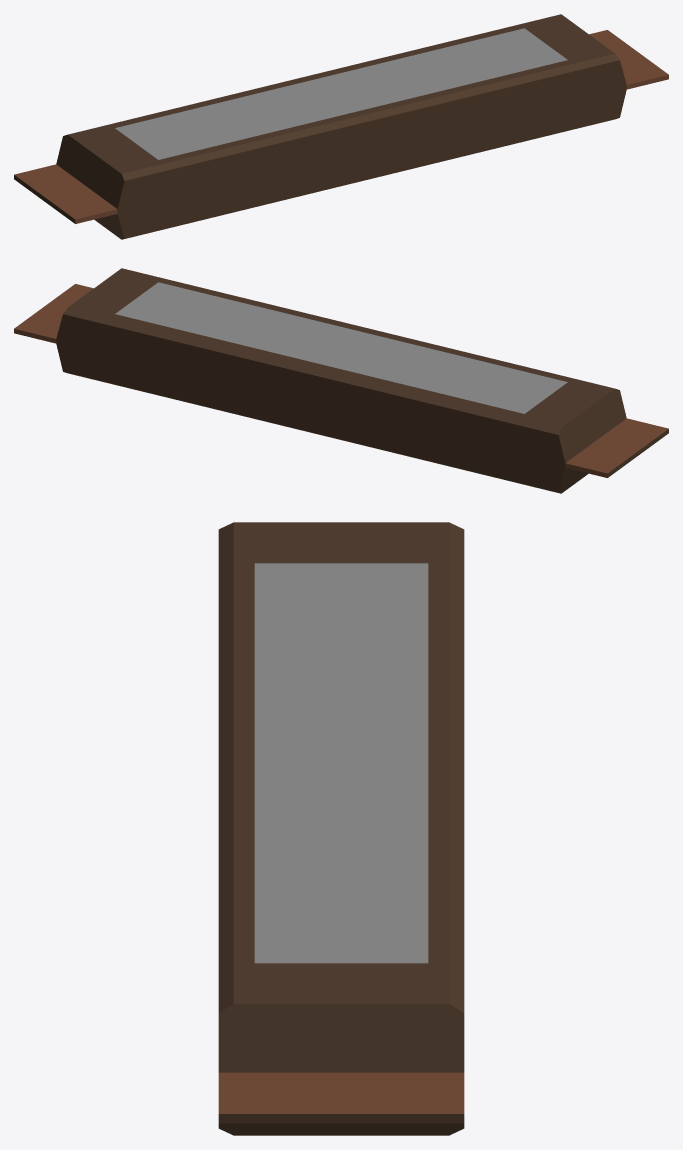
File: Chocolate Bar.fbx
3 views of the same model, one above another, from view 1: azimuth 30°, elevation 25°; view 2: azimuth 150°, elevation 25°; view 3: azimuth 270°, elevation 25° (orthographic). The views are drawn at different scales.
Visible parts, largest first — view 1: Chocolate Bar; view 2: Chocolate Bar; view 3: Chocolate Bar.
Boxes of the visible parts, bbox=[...] form: Chocolate Bar: bbox=[14, 14, 668, 239]; Chocolate Bar: bbox=[14, 268, 668, 493]; Chocolate Bar: bbox=[218, 522, 464, 1135].
Size of the model in its own units: 30.22 by 3.2 by 5.41.
1 material, 1 textured.
